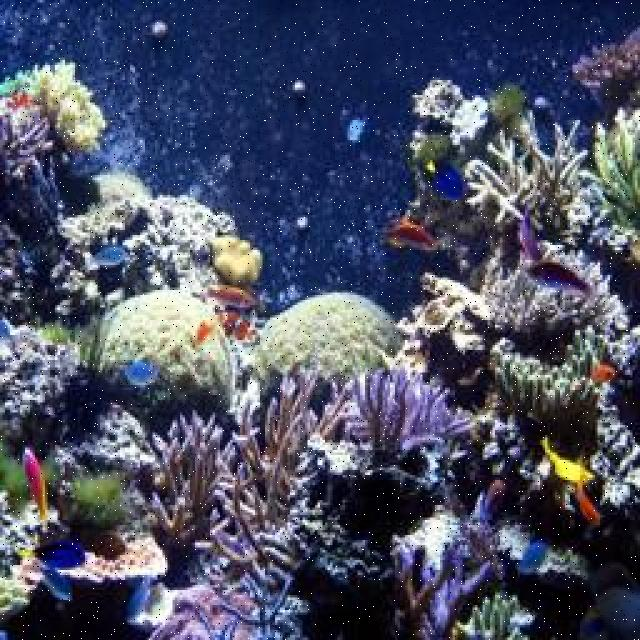fish: (543, 438, 593, 482), (21, 450, 48, 529), (533, 261, 594, 295), (387, 216, 441, 248), (79, 242, 128, 273), (35, 539, 88, 567), (217, 305, 256, 341), (517, 206, 540, 260), (575, 481, 602, 526), (209, 286, 255, 308), (515, 545, 545, 575), (43, 569, 71, 601), (122, 362, 159, 386), (589, 363, 615, 381), (347, 117, 364, 143), (528, 95, 552, 106), (289, 79, 309, 92), (154, 22, 168, 38), (296, 215, 310, 226)
reefs: (1, 28, 637, 638)
